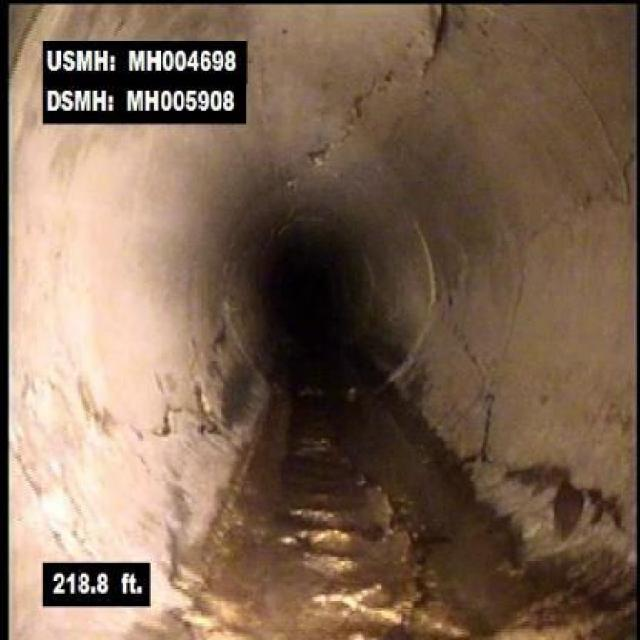Buckling: (368, 471, 435, 635), (417, 5, 455, 80)
Crack: (307, 66, 398, 166), (554, 452, 638, 542), (37, 374, 138, 440), (145, 372, 223, 445), (568, 149, 638, 223), (463, 394, 515, 474)
